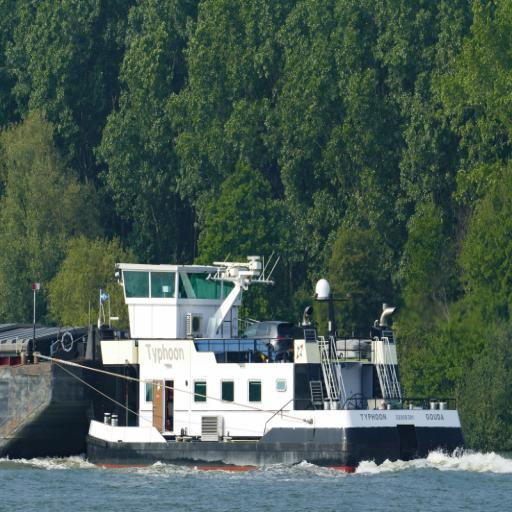tugboat: (84, 245, 468, 484)
